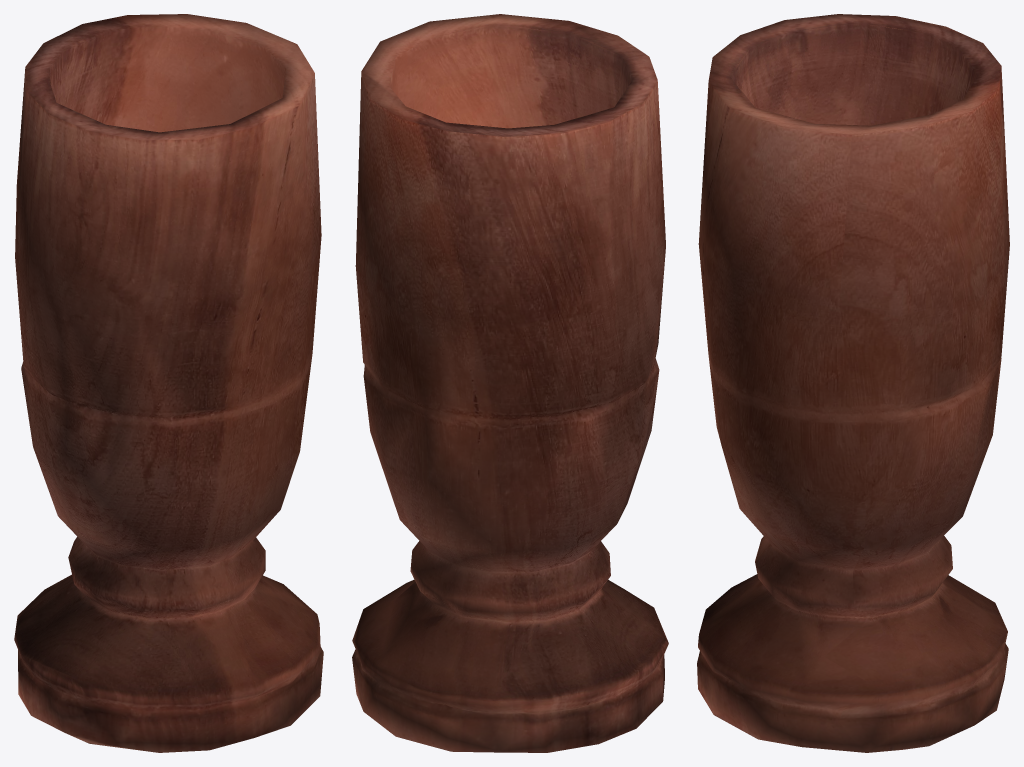
The model's file is Vase.fbx.
3 views of the same model, side by side, from view 1: azimuth 30°, elevation 25°; view 2: azimuth 150°, elevation 25°; view 3: azimuth 270°, elevation 25° (orthographic).
Visible parts, largest first — view 1: Vase; view 2: Vase; view 3: Vase.
Boxes of the visible parts, box(x1,y1,x2,y2) form: Vase: box(14, 14, 323, 752); Vase: box(352, 14, 668, 752); Vase: box(697, 14, 1009, 752).
Bounding box in the file's own units: 12.48 × 27.3 × 12.48.
Materials: 1 (1 with a texture image).
